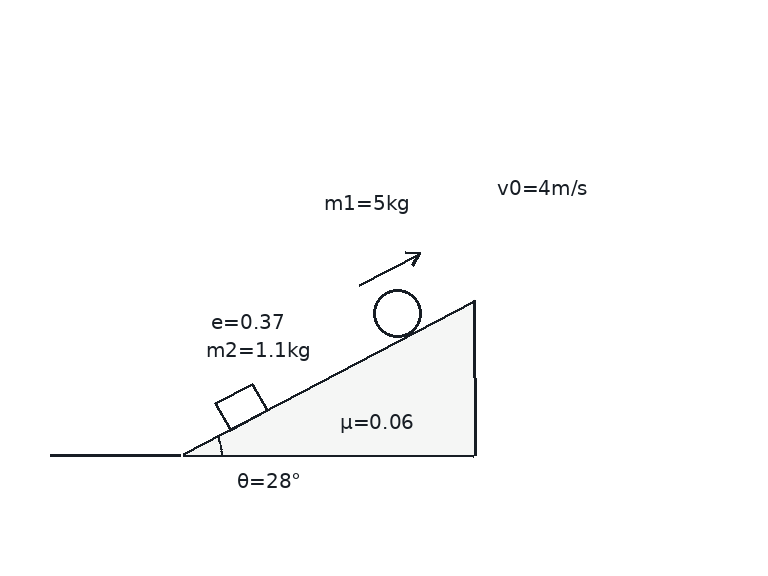ball: (371, 287, 423, 339)
block: (213, 381, 268, 432)
ramp: (180, 298, 476, 457)
